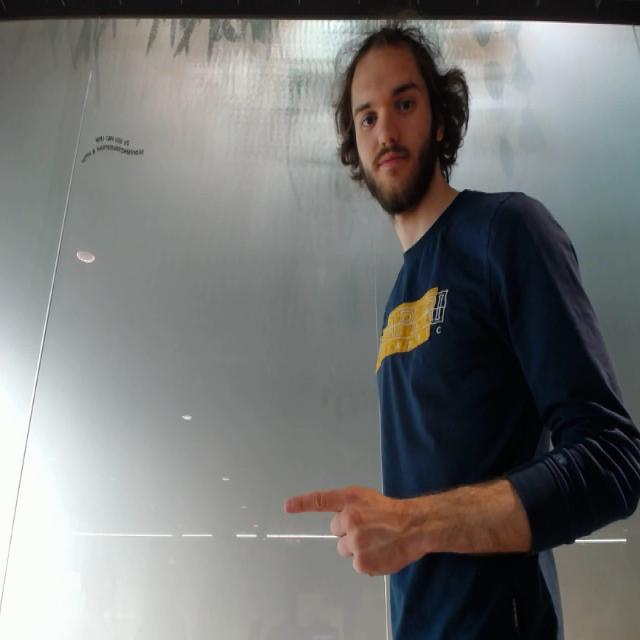left: (277, 483, 427, 580)
